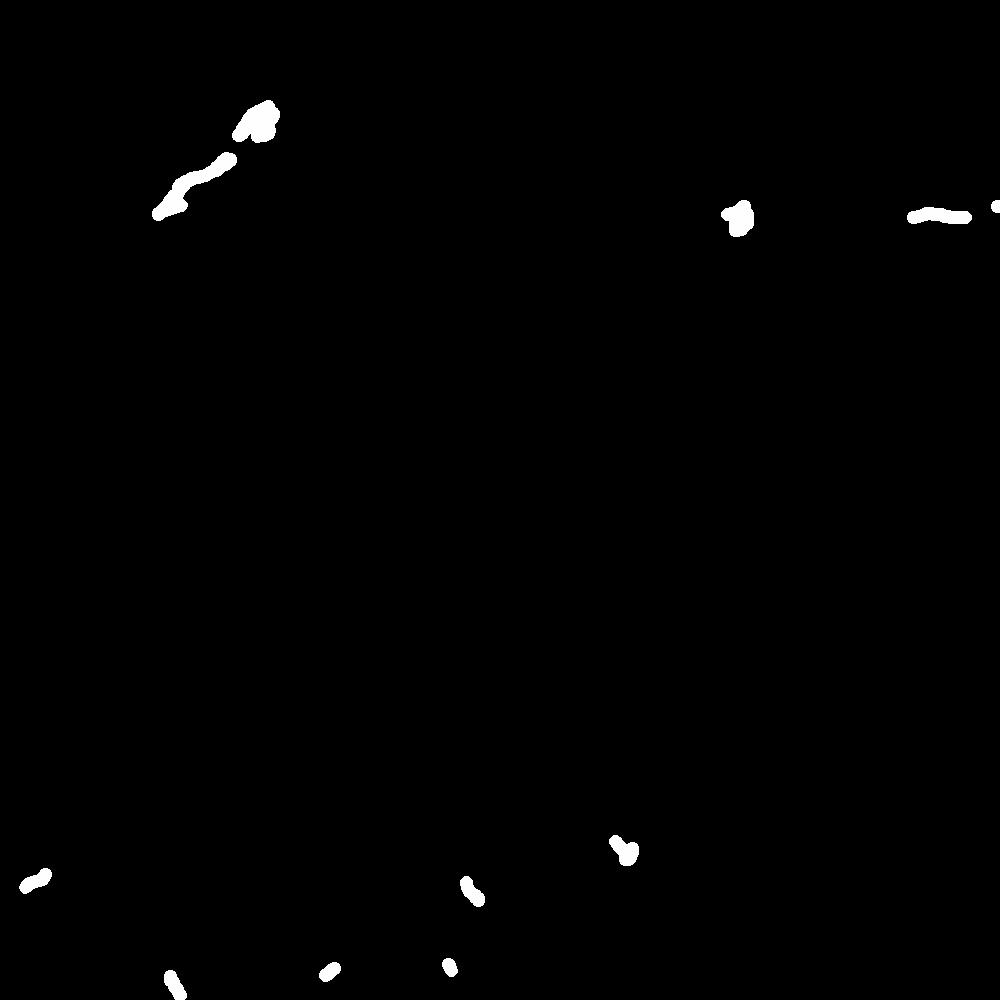illegal: (141, 93, 278, 234), (921, 204, 1000, 224), (720, 198, 754, 235), (460, 879, 493, 909), (159, 966, 183, 1000), (28, 866, 63, 886)
